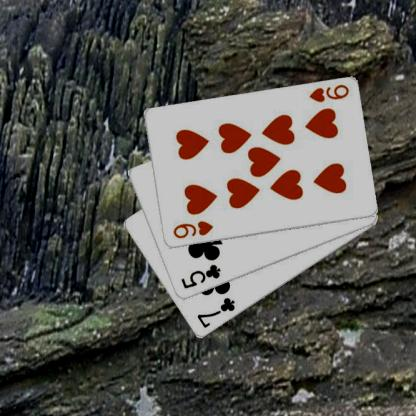5C: (178, 262, 222, 290)
7C: (194, 295, 237, 330)
9H: (170, 218, 214, 240), (306, 82, 350, 104)
